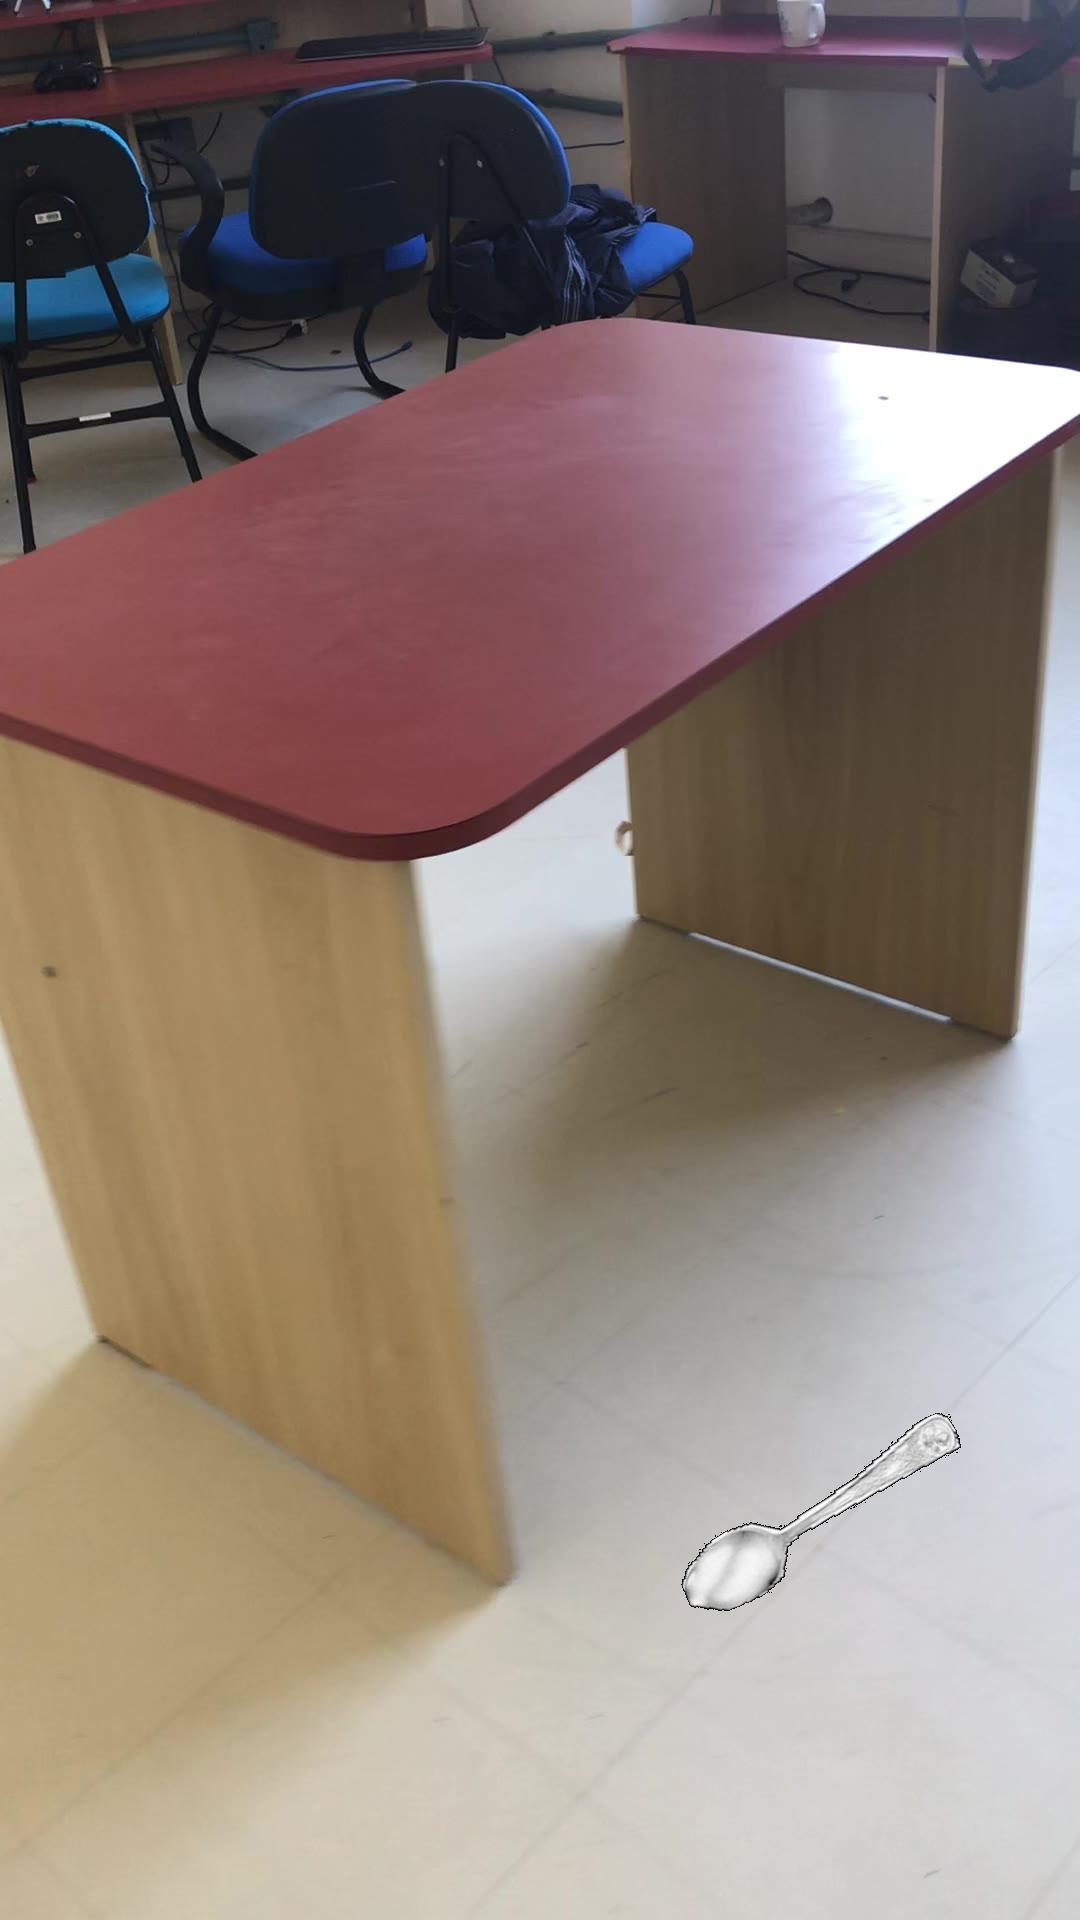spoon: (679, 1411, 959, 1610)
